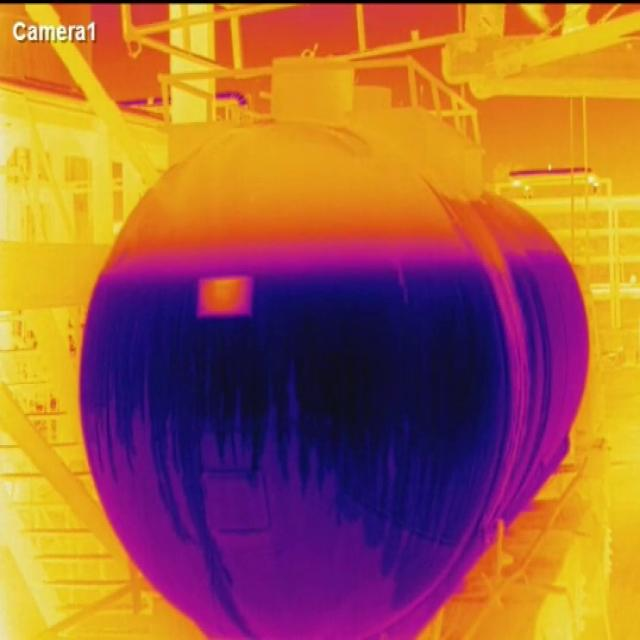tank: (80, 124, 509, 640)
